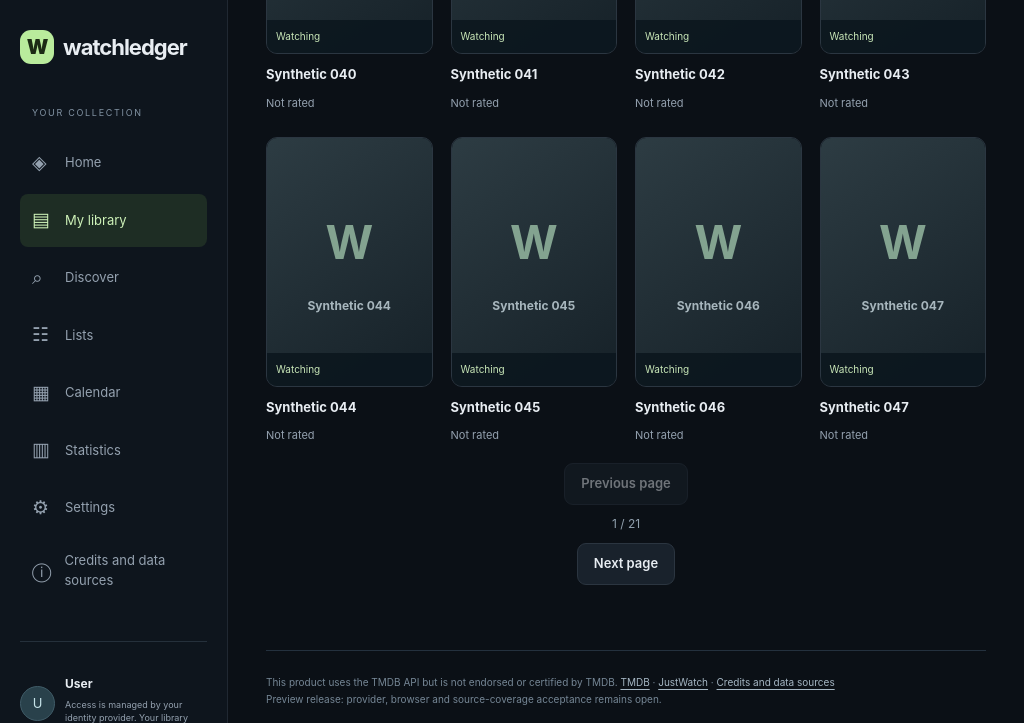
large library renders bounded pages and filters across all entries
The image size is (1024, 723).
(page scrolled)
Check: the text "Synthetic 048" is not shown
Click the button "Next page" at point(626, 564), box [577,543,675,585]
(page scrolled)
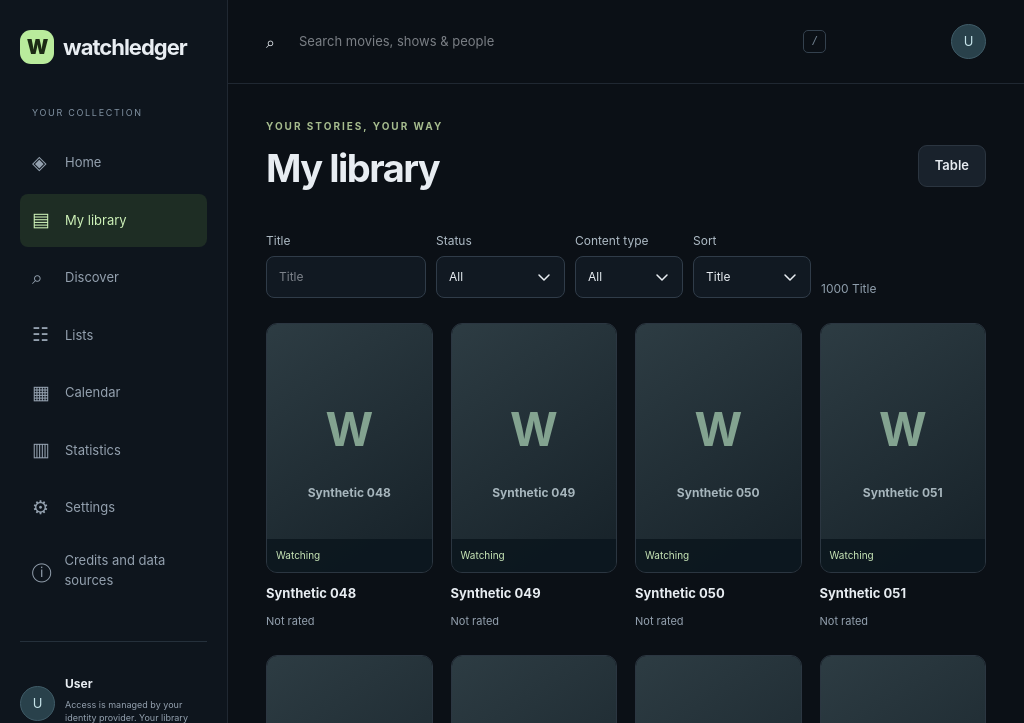
Check: the 1st text "Synthetic 048" is shown, box [308,484,391,502]
Type "Synthetic 999" into the field named "Search movies, shows & people" at point(346, 277), box [266,256,426,298]
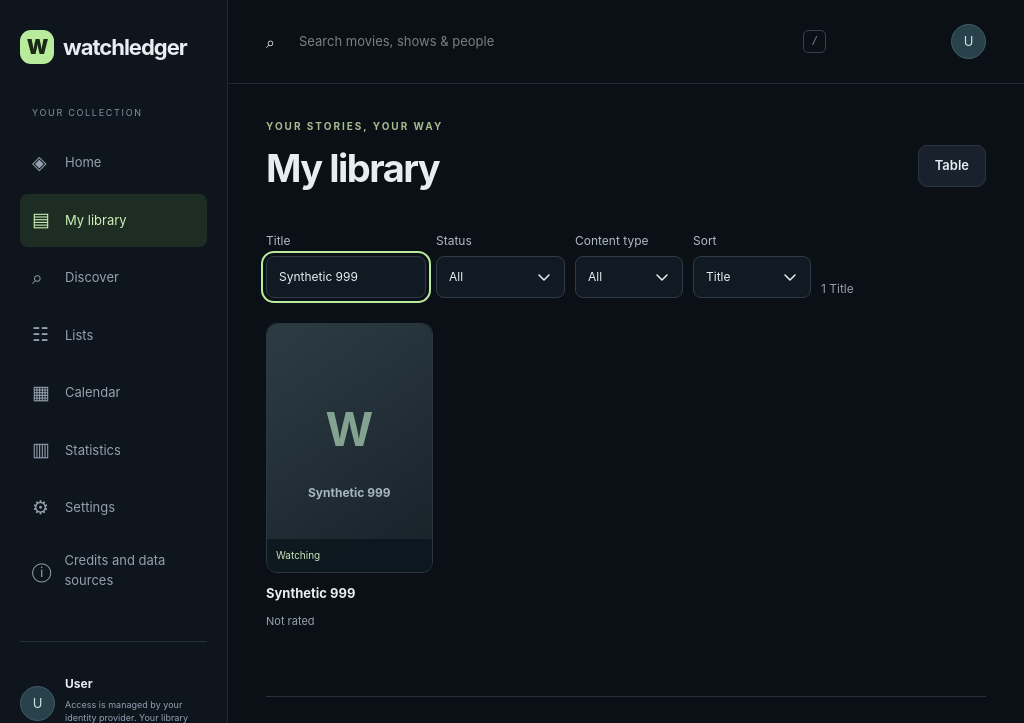
Check: the 1st text "Synthetic 999" is shown, box [308,484,390,502]
